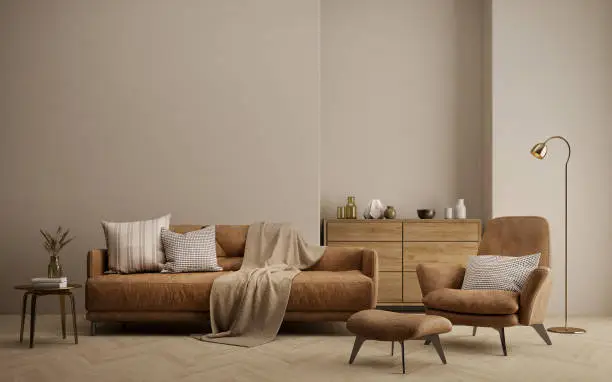chair: (414, 213, 553, 358)
floor lamp: (529, 133, 588, 335)
side table: (10, 281, 83, 352)
sofa: (81, 212, 379, 336)
